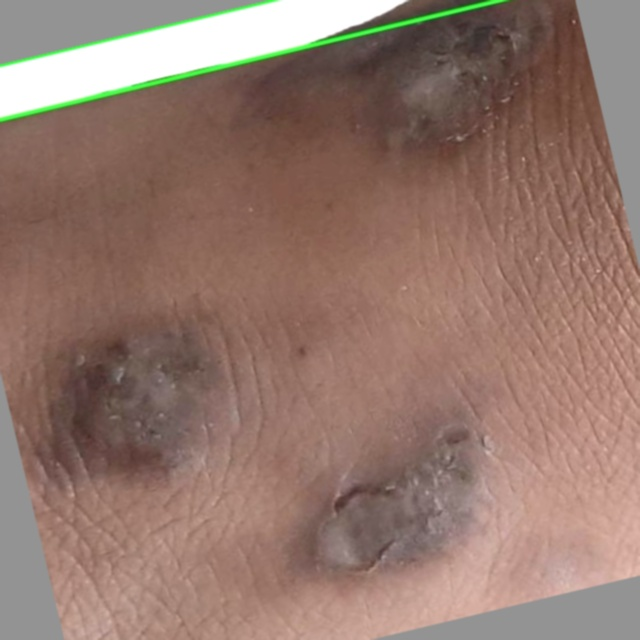Contact Dermatitis: (0, 0, 499, 119)
